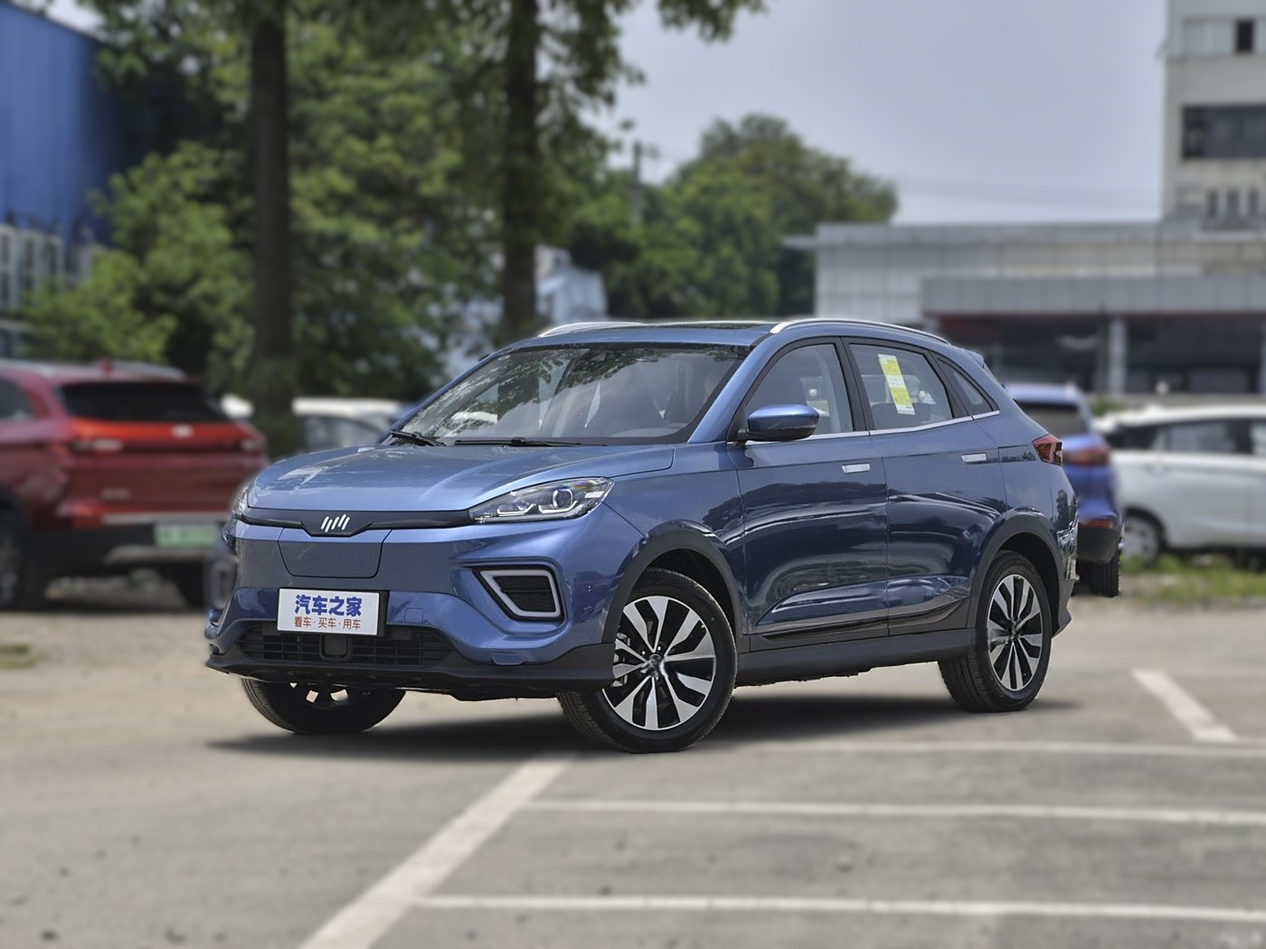WELTMEISTER: (322, 515, 349, 532)
